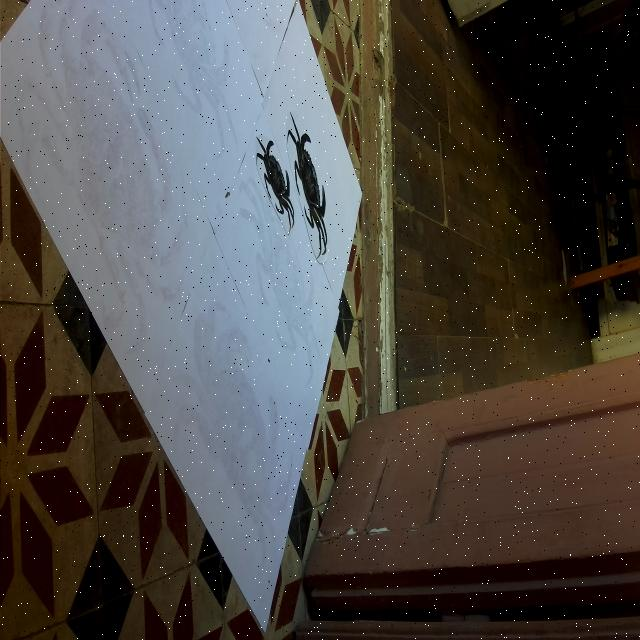European_Green_Crab: (279, 105, 340, 263), (249, 121, 305, 240)
